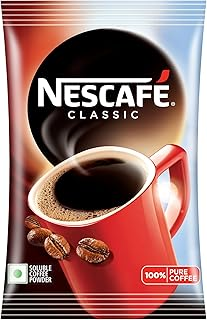Coffee: (1, 1, 207, 319)
